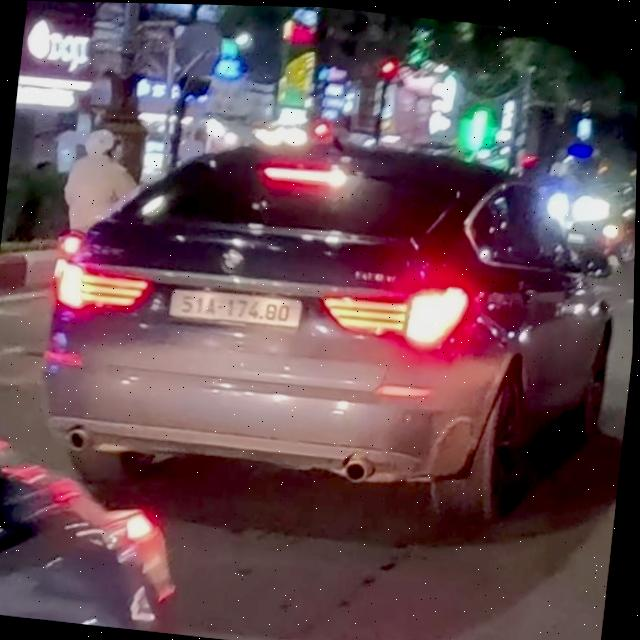car: (27, 106, 638, 547)
plate: (159, 277, 312, 341)
